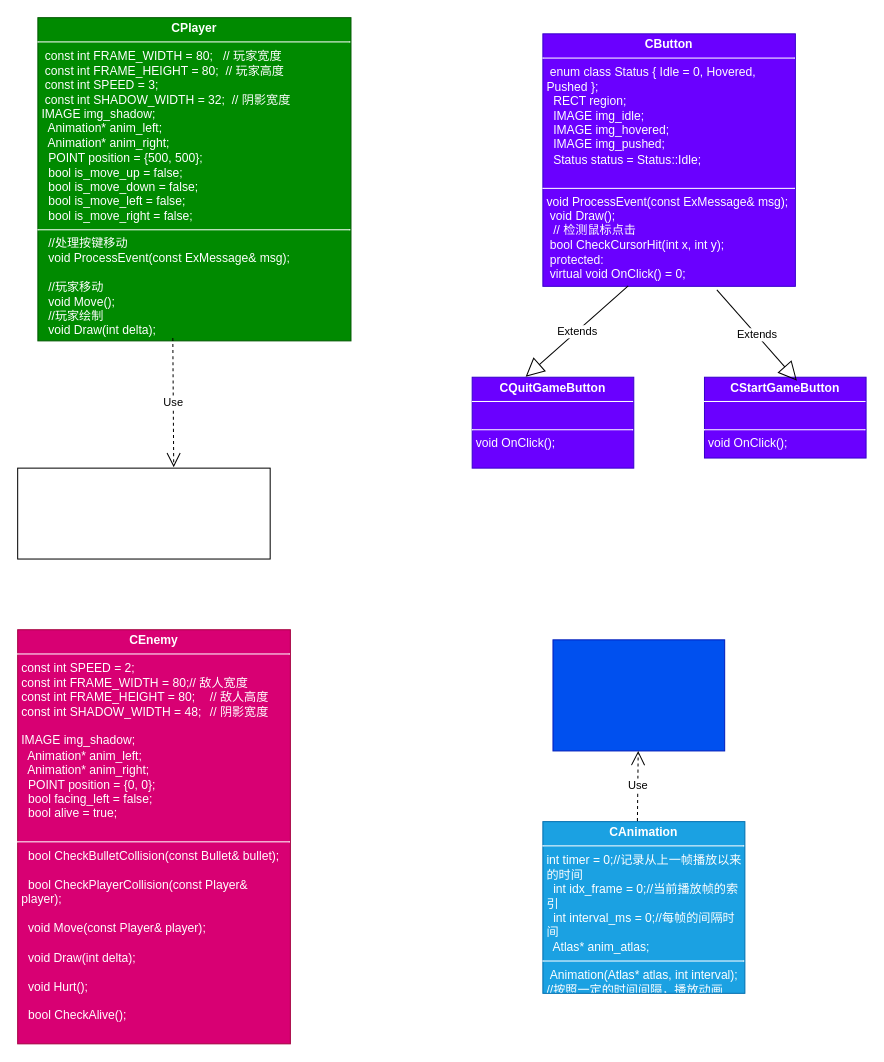
The diagram is 884 pixels wide and 1062 high, and some of its shapes have lost their labels. The shapes that lost their labels are listed below. From the top down, each one's centre as x and y in pixels, then its label:
(x=143, y=513): CBullet POINT position = {0, 0}; const int RADIUS = 10; void Draw() const;
(x=638, y=695): C Atlas vector<IMAGE*> frame_list; Atlas(LPCTSTR path, int num) ；
